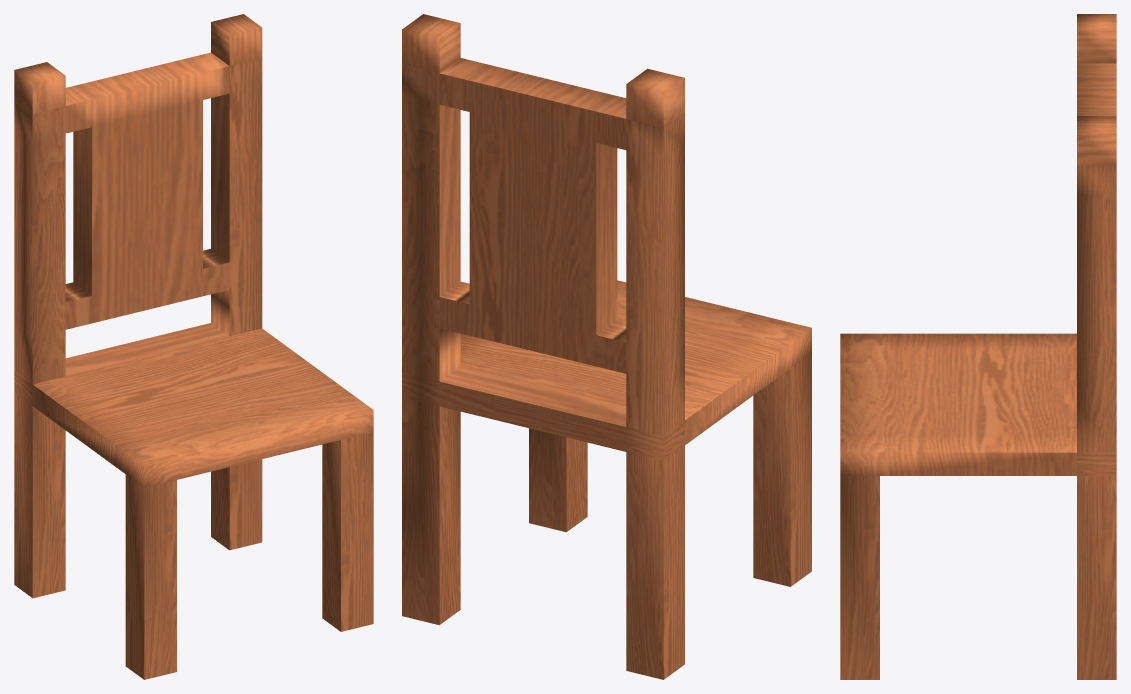
The model's file is chair.fbx.
The picture shows the model from 3 angles, left to right: view 1: azimuth 30°, elevation 25°; view 2: azimuth 150°, elevation 25°; view 3: azimuth 270°, elevation 25°; orthographic projection. The views are drawn at different scales.
Visible parts, largest first — view 1: chair; view 2: chair; view 3: chair.
Part boxes in pixels (x1=…): chair: x1=14, y1=14, x2=373, y2=679; chair: x1=402, y1=14, x2=811, y2=679; chair: x1=840, y1=14, x2=1116, y2=679.
Size of the model in its own units: 61.78 by 132 by 60.62.
Materials: 1 (1 with a texture image).
